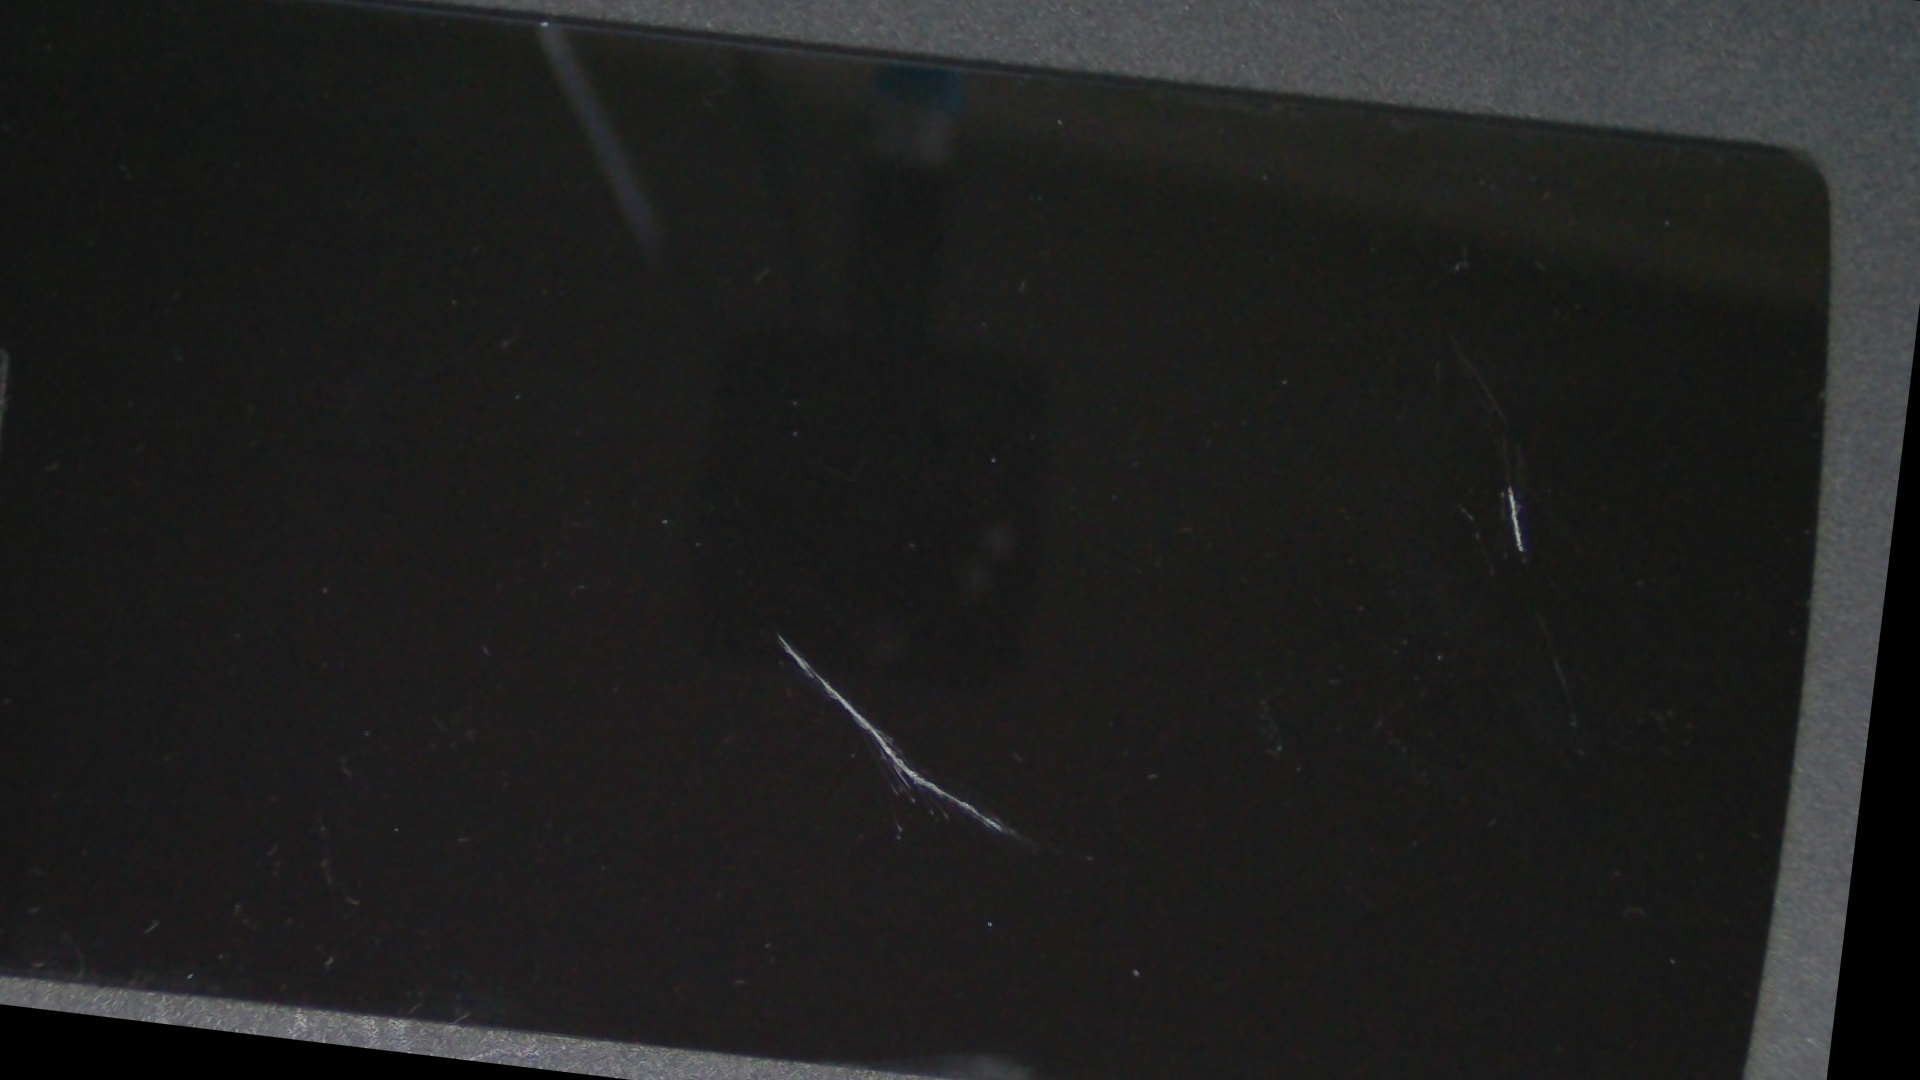oil: (266, 198, 1292, 1069), (661, 124, 1920, 794)
